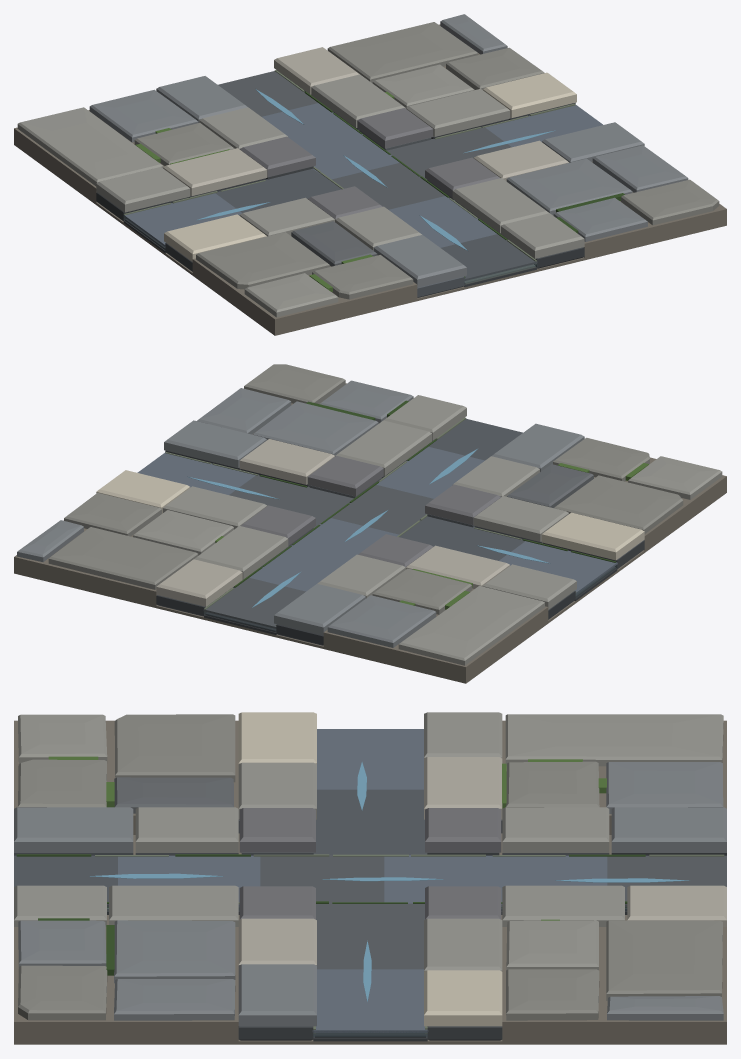
Rendered from SM_LPD_Floor_PavingChannelCross_01.fbx.
3 renders of one model, top to bottom at view 1: azimuth 30°, elevation 25°; view 2: azimuth 150°, elevation 25°; view 3: azimuth 270°, elevation 25°, orthographic. The views are drawn at different scales.
Parts seen in each view (by area): view 1: SM_LPD_Floor_PavingChannelCross_01; view 2: SM_LPD_Floor_PavingChannelCross_01; view 3: SM_LPD_Floor_PavingChannelCross_01.
Part boxes in pixels (bbox=[...]): SM_LPD_Floor_PavingChannelCross_01: bbox=[14, 14, 726, 335]; SM_LPD_Floor_PavingChannelCross_01: bbox=[14, 364, 726, 683]; SM_LPD_Floor_PavingChannelCross_01: bbox=[14, 712, 726, 1044].
Bounding box in the file's own units: 4 × 0.2 × 4.
